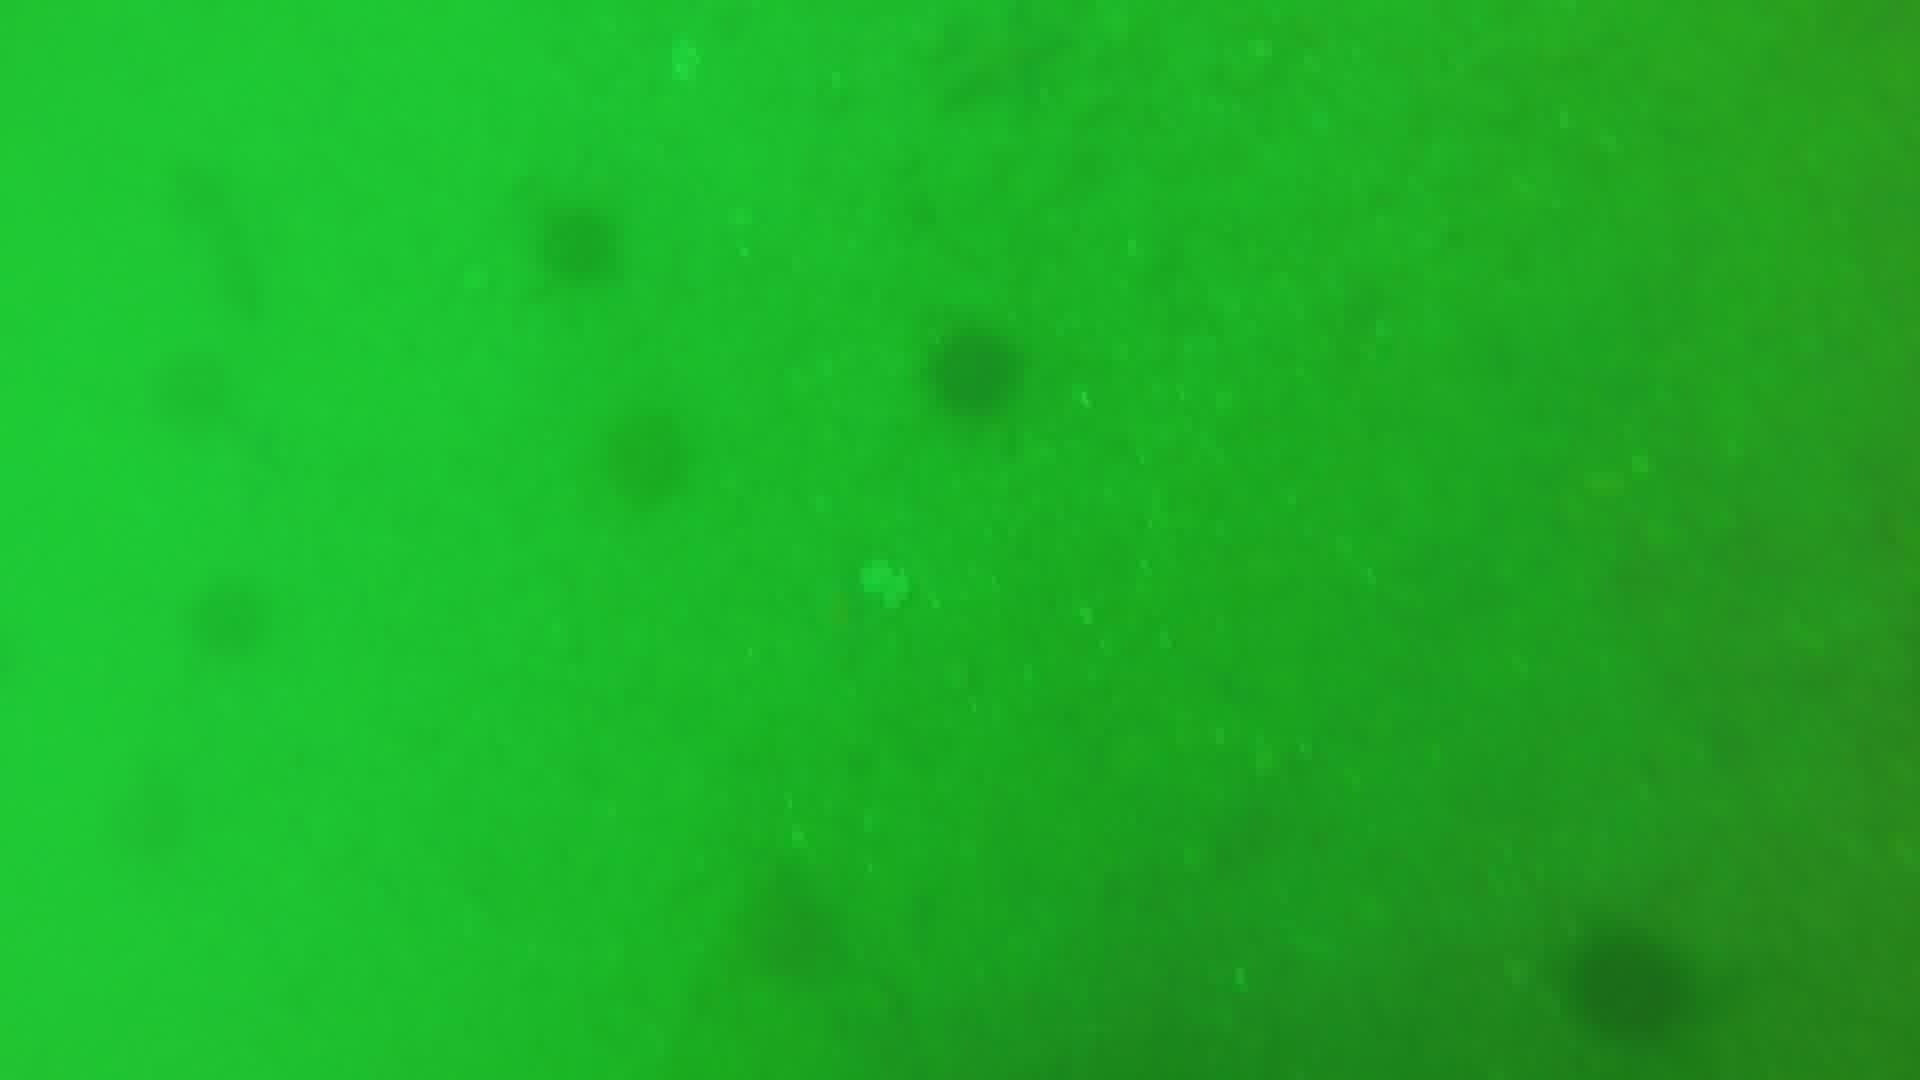echinus: (1561, 924, 1697, 1044), (596, 404, 698, 512), (920, 320, 1029, 419), (179, 570, 278, 663), (142, 342, 241, 435), (531, 199, 628, 289)
starfish: (922, 5, 1087, 117)
